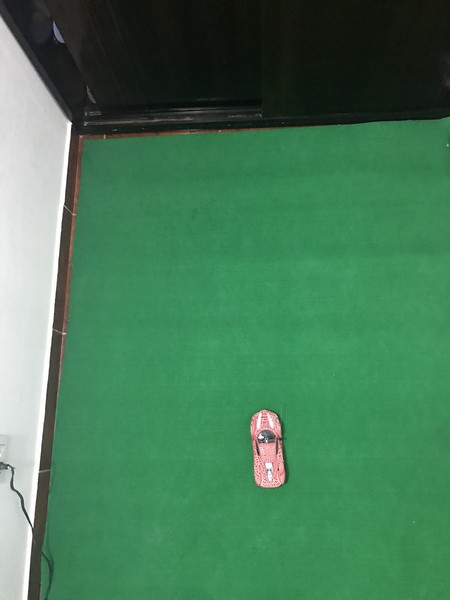RC: (249, 407, 289, 490)
